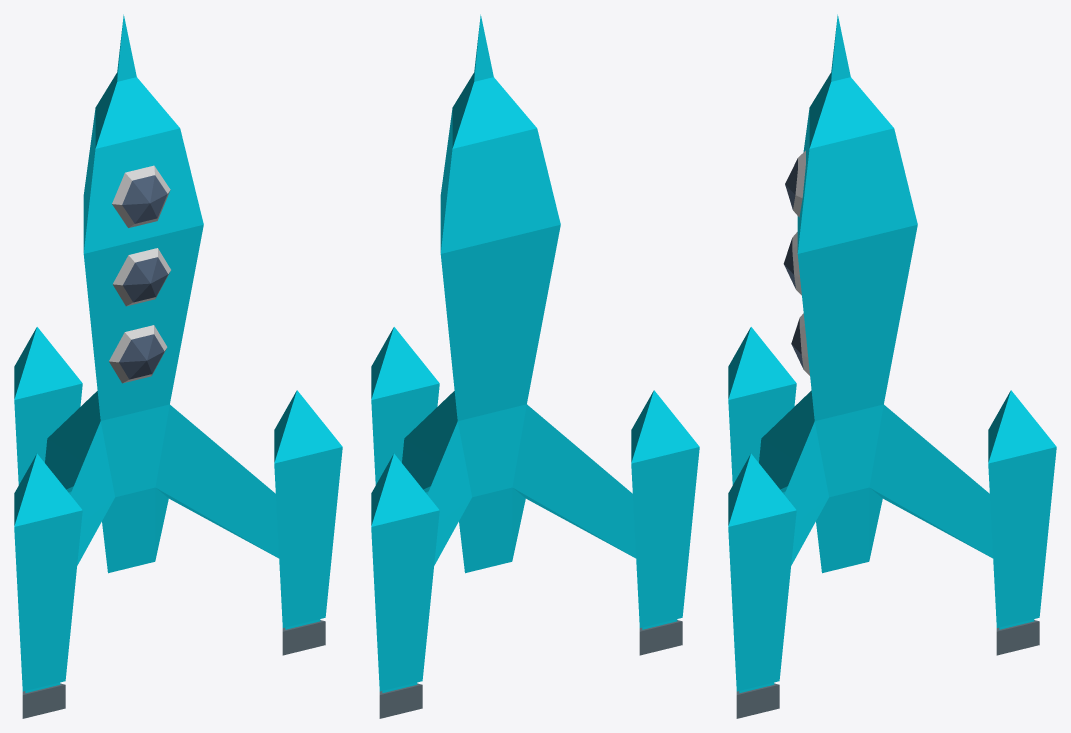
The model's file is rocket.dae.
The picture shows the model from 3 angles, left to right: view 1: azimuth 30°, elevation 25°; view 2: azimuth 150°, elevation 25°; view 3: azimuth 270°, elevation 25°; orthographic projection.
Visible parts, largest first — view 1: factory_rocket_01; view 2: factory_rocket_01; view 3: factory_rocket_01.
Part boxes in pixels (left/top/right/bottom): factory_rocket_01: left=14, top=14, right=342, bottom=718; factory_rocket_01: left=371, top=14, right=699, bottom=718; factory_rocket_01: left=728, top=14, right=1056, bottom=718.
Bounding box in the file's own units: 17.76 × 15.38 × 32.59.
